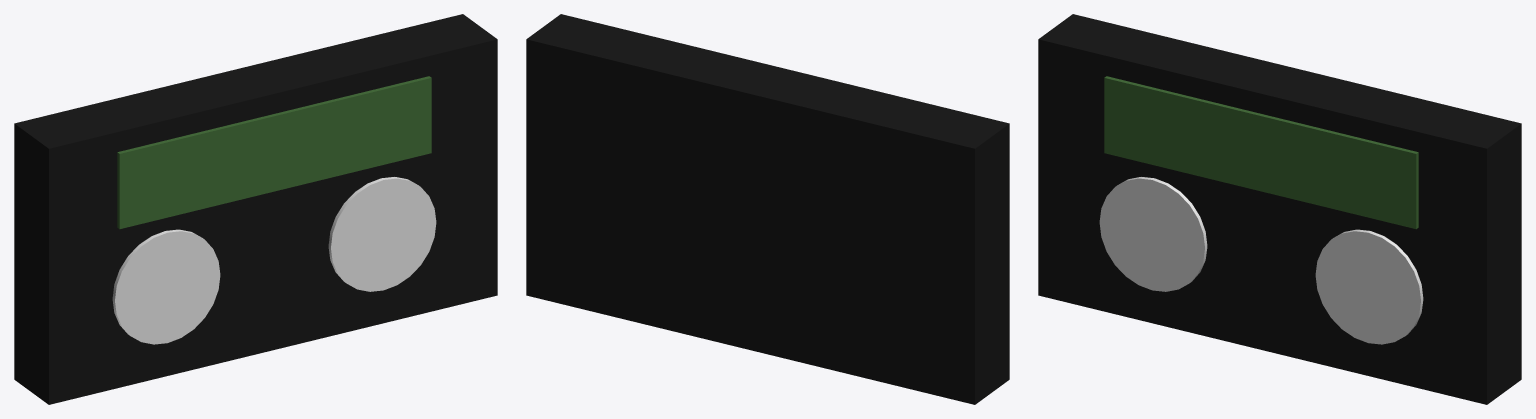
Rendered from vhs-2.glb.
3 renders of one model, left to right at view 1: azimuth 30°, elevation 25°; view 2: azimuth 150°, elevation 25°; view 3: azimuth 330°, elevation 25°, orthographic.
Bounding box in the file's own units: 0.187 × 0.102 × 0.0267.
